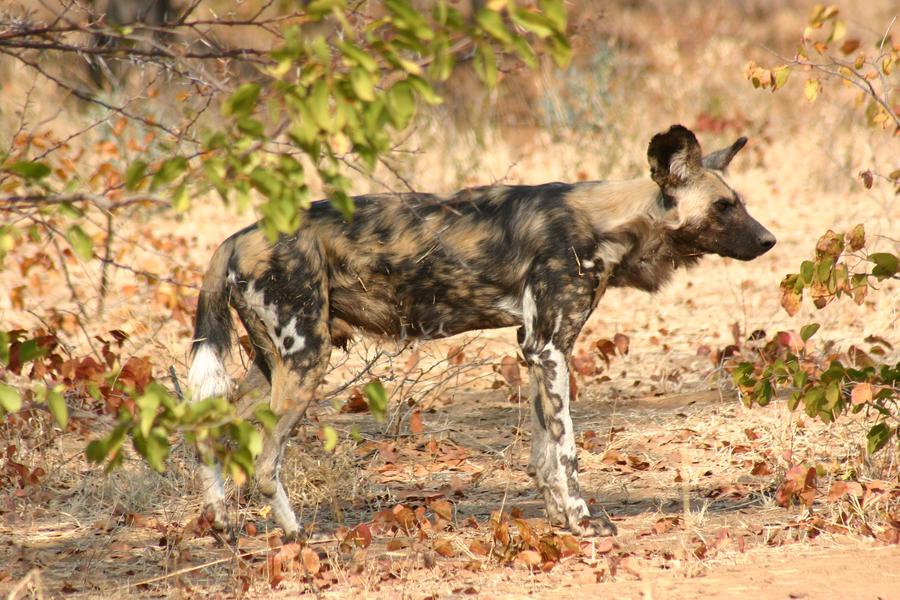wilddog: (199, 140, 748, 512)
